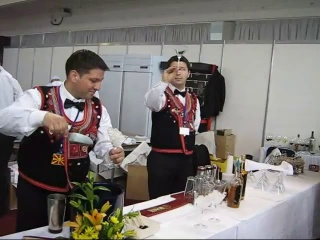person: (6, 51, 124, 229), (145, 52, 206, 197)
